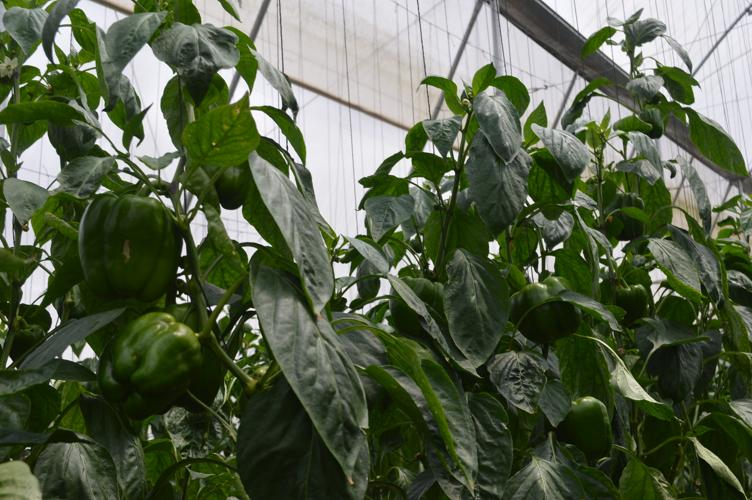BellPepper: (74, 197, 176, 297), (98, 314, 195, 416), (513, 278, 579, 339), (560, 397, 613, 457), (216, 160, 248, 209)
